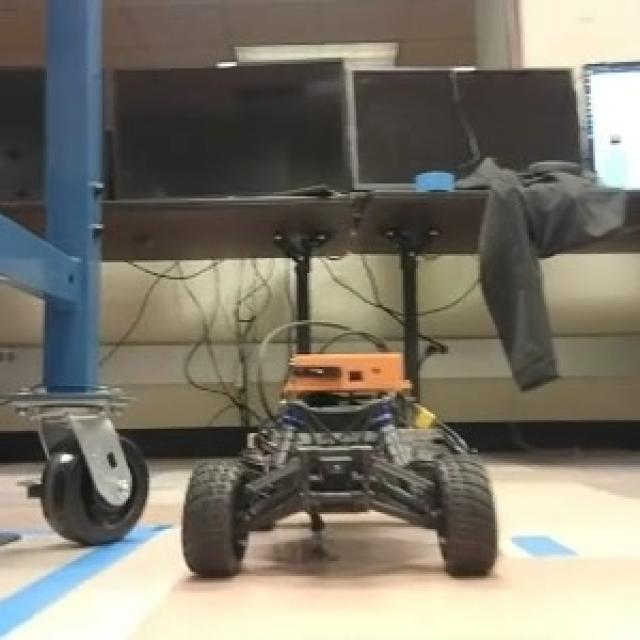obstacle: (180, 348, 500, 577)
